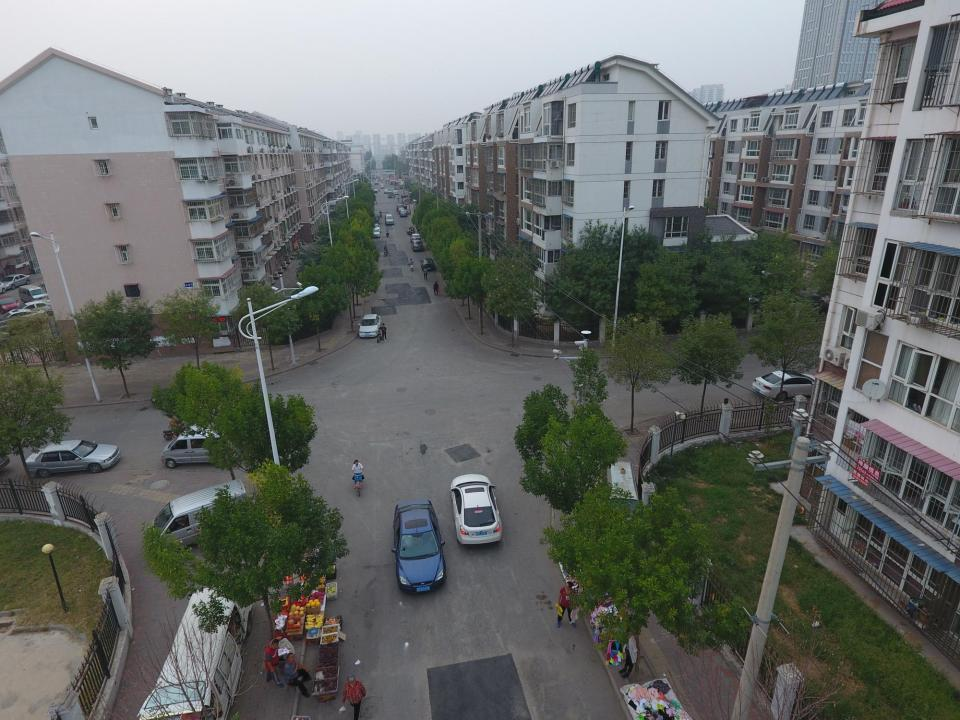bus: (136, 587, 253, 720)
car: (394, 499, 446, 593), (450, 474, 503, 544), (23, 441, 119, 474), (752, 369, 838, 403), (0, 308, 47, 336), (10, 302, 53, 320), (0, 274, 32, 290), (360, 314, 381, 336), (421, 257, 434, 271), (411, 241, 424, 251), (370, 228, 380, 239), (372, 222, 381, 233), (410, 233, 421, 242), (400, 209, 407, 217), (398, 207, 405, 213), (392, 189, 398, 195), (384, 188, 390, 194), (396, 204, 403, 209), (374, 180, 378, 184)
van: (150, 480, 252, 546), (160, 425, 241, 466), (18, 284, 48, 307), (385, 214, 394, 223), (387, 190, 393, 197), (379, 183, 384, 189)
